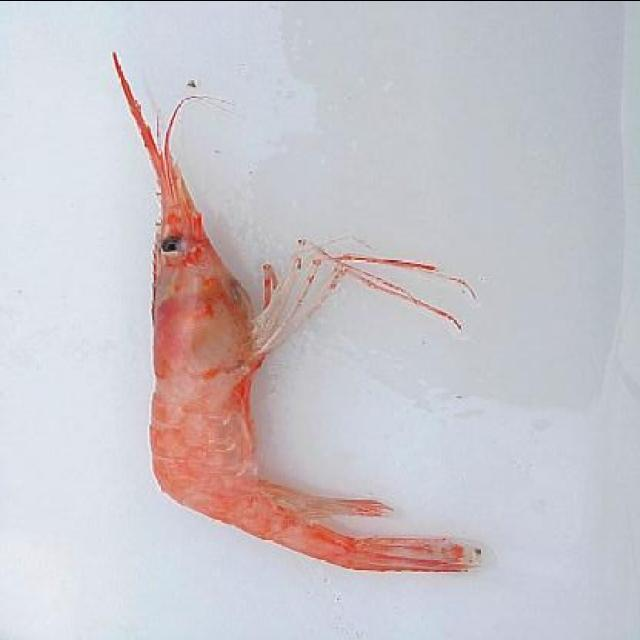shrimp: (96, 50, 491, 583)
